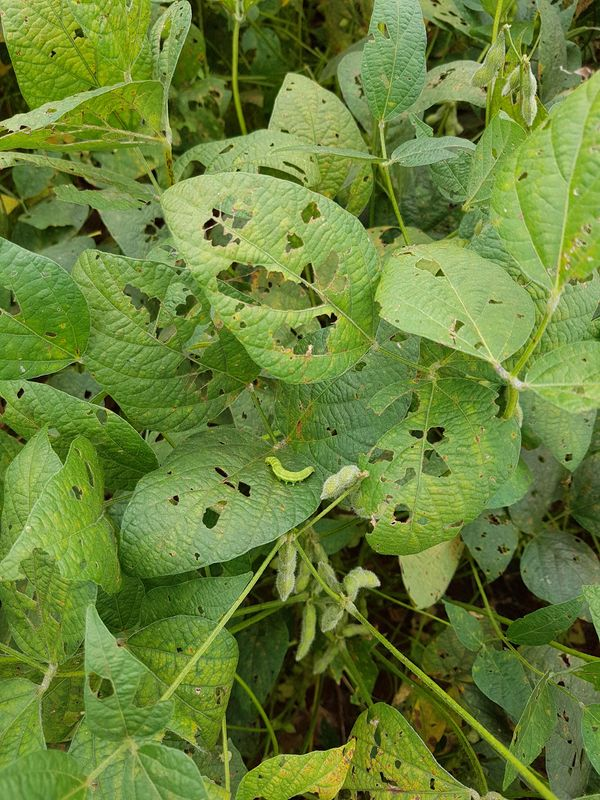Anticarsia_gemmatalis: (258, 450, 320, 491)
